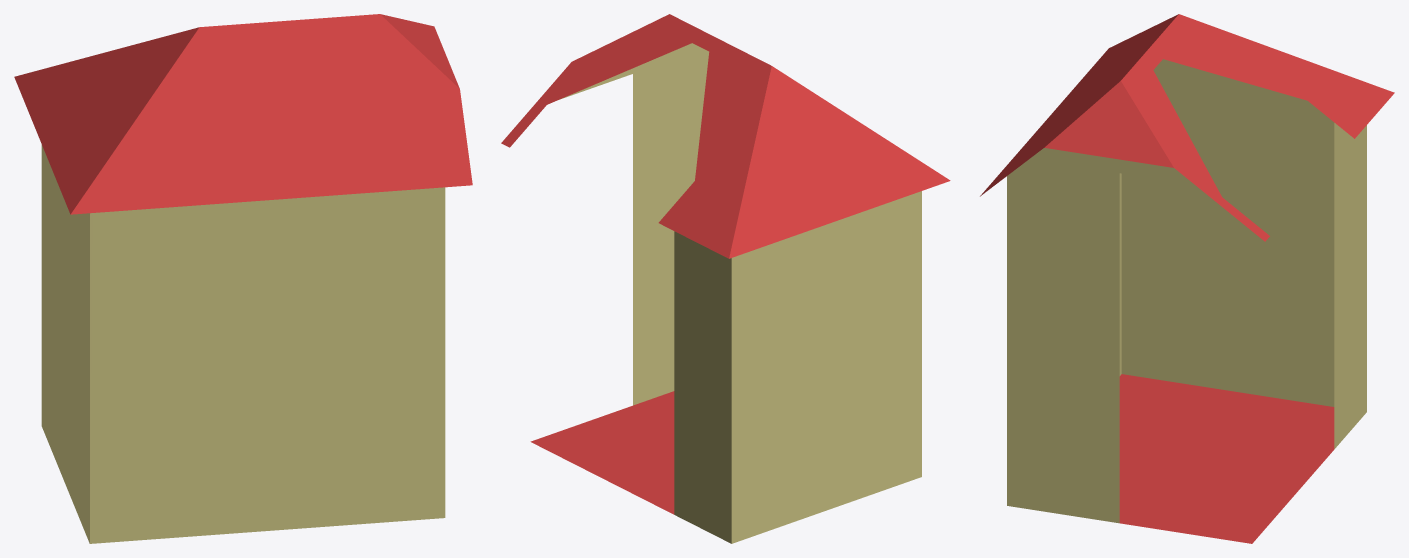
The picture shows the model from 3 angles, left to right: view 1: azimuth 30°, elevation 25°; view 2: azimuth 150°, elevation 25°; view 3: azimuth 270°, elevation 25°; orthographic projection. The views are drawn at different scales.
Size of the model in its own units: 15.74 by 14.29 by 16.05.
